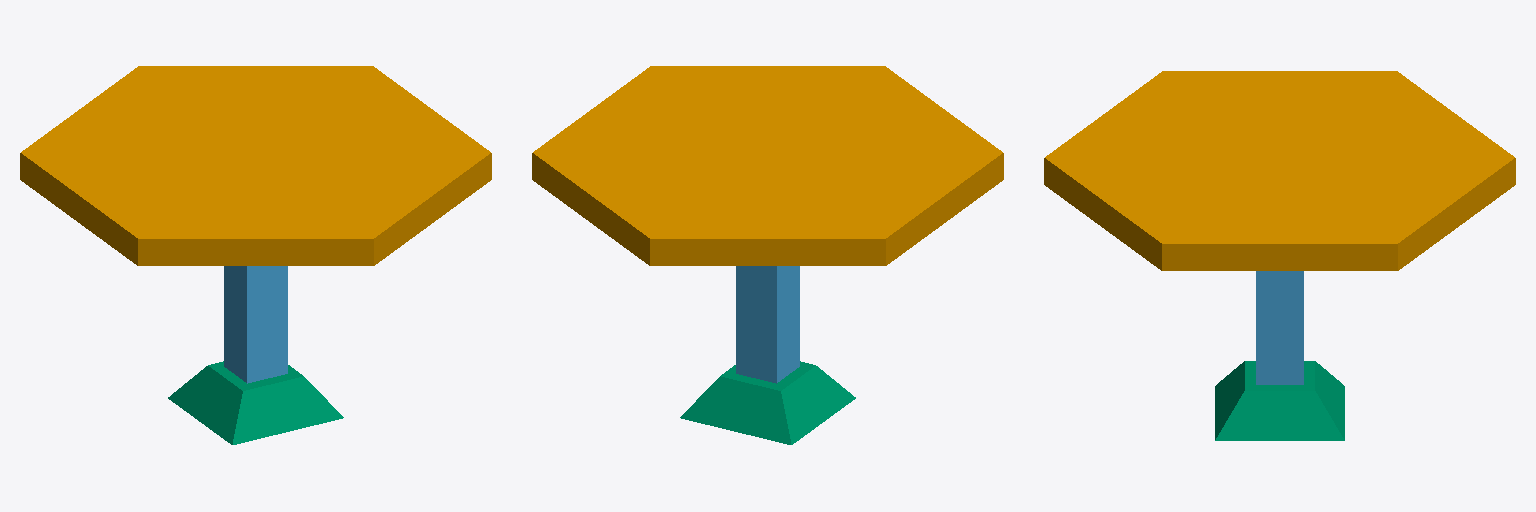
robot.urdf — hextable:
<?xml version="1.0"?>
<robot name="hextable">
  <link name="top">
    <inertial>
        <origin rpy="0 0 0" xyz="0 0 0"/>
        <mass value="5.0"/>
        <inertia ixx="4.4e-5" ixy="0" ixz="0" iyy="0" iyz="0" izz="4.4e-5"/>
    </inertial>
    <visual>
      <geometry>
        <mesh filename="top.obj"/>
      </geometry>
    </visual>
    <collision>
      <geometry>
        <mesh filename="top.obj"/>
      </geometry>
      <surface>
           <bounce restitution_coefficient = "0.1"/>
      </surface>
    </collision>
  </link>
  <link name="leg">
    <inertial>
        <origin rpy="0 0 0" xyz="0 0 0"/>
        <mass value="1"/>
        <inertia ixx="4.4e-5" ixy="0" ixz="0" iyy="0" iyz="0" izz="4.4e-5"/>
    </inertial>
    <visual>
      <geometry>
        <mesh filename="leg.obj"/>
      </geometry>
    </visual>
    <collision>
      <geometry>
        <mesh filename="leg.obj"/>
      </geometry>
      <surface>
           <bounce restitution_coefficient = "0.1"/>
      </surface>
    </collision>
  </link>
  <link name="base">
    <inertial>
        <origin rpy="0 0 0" xyz="0 0 0"/>
        <mass value="1"/>
        <inertia ixx="4.4e-5" ixy="0" ixz="0" iyy="0" iyz="0" izz="4.4e-5"/>
    </inertial>
    <visual>
      <geometry>
        <mesh filename="base.obj"/>
      </geometry>
    </visual>
    <collision>
      <geometry>
        <mesh filename="base.obj"/>
      </geometry>
      <surface>
           <bounce restitution_coefficient = "0.1"/>
      </surface>
    </collision>
  </link>
  <joint name="top_to_leg" type="fixed">
    <parent link="top"/>
    <child link="leg"/>
    <origin rpy="0 0 0" xyz="0 0 -0.259"/>
  </joint>
  <joint name="top_to_base" type="fixed">
    <parent link="top"/>
    <child link="base"/>
    <origin rpy="0 0 0" xyz="0 0 -0.418"/>
  </joint>
</robot>

--- What the picture shows (computed from the rendered views, not written in the file) ---
The picture shows the robot from 3 angles, left to right: view 1: azimuth 30°, elevation 25°; view 2: azimuth 150°, elevation 25°; view 3: azimuth 270°, elevation 25°; orthographic projection.
Model hextable with 3 links and 2 joints (2 fixed), rooted at top, posed all joints at 0.
Links seen in each view (by area): view 1: top, base, leg; view 2: top, base, leg; view 3: top, base, leg.
Link boxes in pixels (x1,y1,x2,y2): top: (20,66,491,265); base: (168,361,343,444); leg: (224,266,287,383); top: (532,66,1003,265); base: (680,361,855,444); leg: (736,266,799,383); top: (1044,71,1515,270); base: (1215,361,1344,440); leg: (1256,271,1303,384).
Size in the robot's own frame: 0.6928 by 0.8 by 0.4788 metres.
Meshes: 3 distinct files referenced, 3 mesh visuals loaded (3 OBJ).